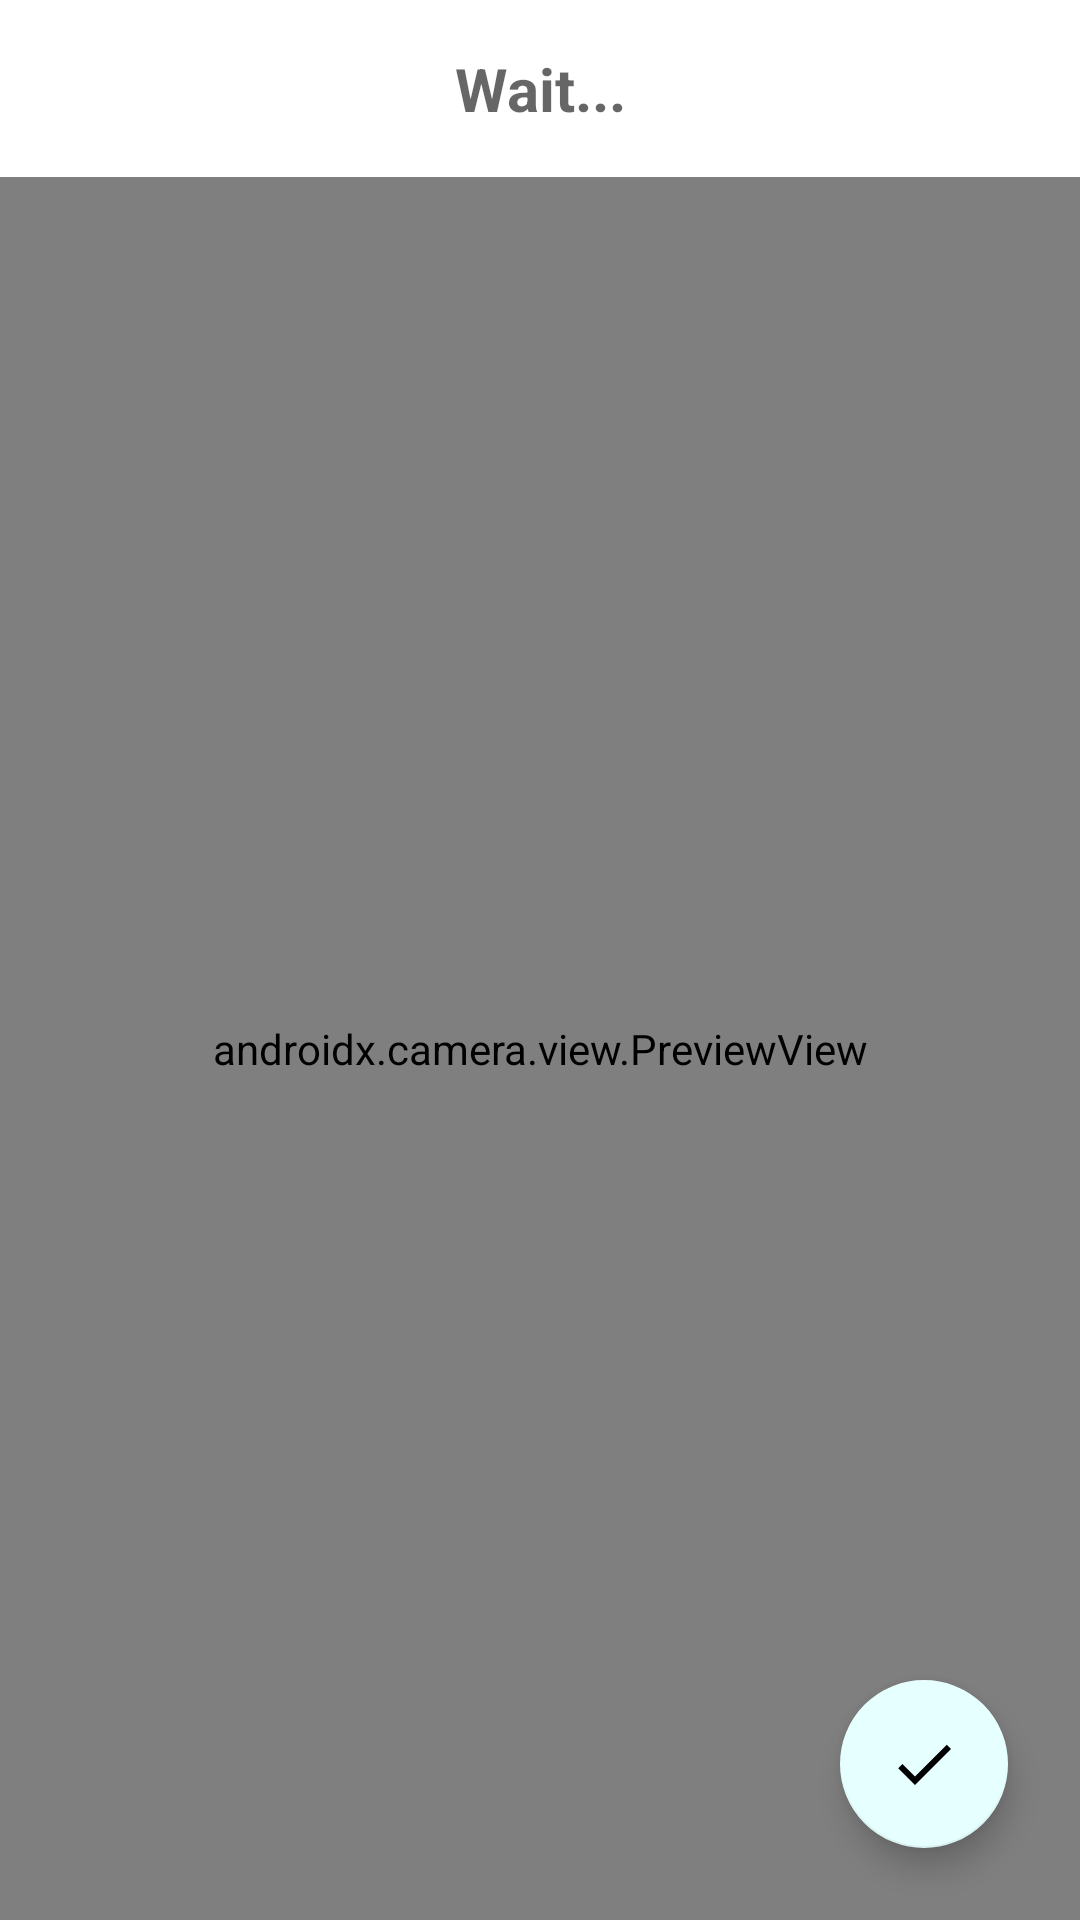

Screen size 1080x1920. Icon name, then its center in pixels as [x,y]:
done: [924,1764]
